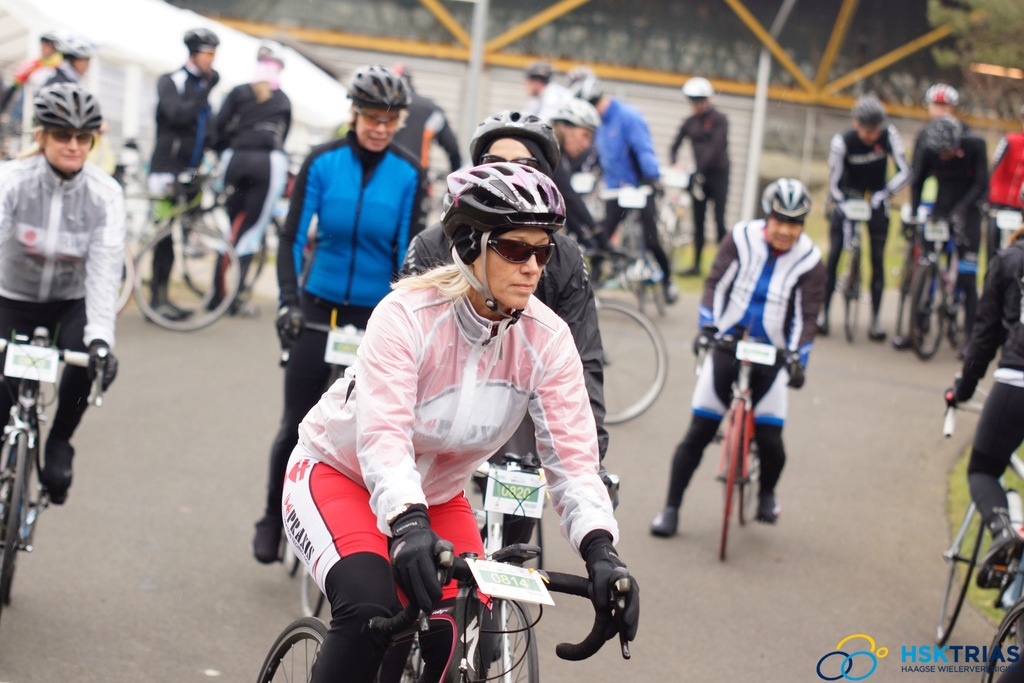Bike: (263, 531, 641, 683), (693, 327, 789, 563)
